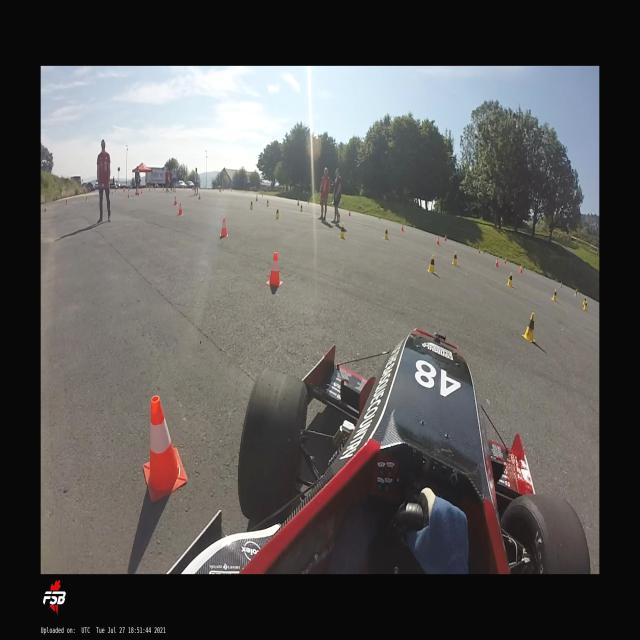orange_cone: (143, 396, 187, 502), (266, 252, 282, 286), (220, 218, 228, 236), (178, 203, 182, 215), (494, 258, 498, 268), (174, 196, 177, 205), (436, 236, 439, 245), (401, 224, 404, 232), (255, 195, 258, 201), (198, 192, 200, 200), (520, 266, 522, 274), (504, 258, 506, 264), (45, 206, 47, 212), (128, 192, 130, 198), (298, 199, 300, 205), (348, 212, 351, 216), (445, 235, 447, 241), (479, 250, 480, 253), (142, 190, 142, 193)
yellow_cone: (522, 312, 536, 342), (427, 254, 435, 274), (338, 224, 344, 238), (452, 251, 458, 265), (551, 288, 557, 302), (507, 272, 512, 287), (384, 228, 388, 240), (583, 300, 587, 311), (276, 208, 279, 220), (582, 296, 586, 305), (250, 200, 253, 210), (266, 199, 268, 207), (300, 204, 302, 212), (575, 290, 577, 296), (560, 282, 562, 288), (66, 200, 68, 204), (86, 198, 88, 202), (112, 191, 113, 195)
